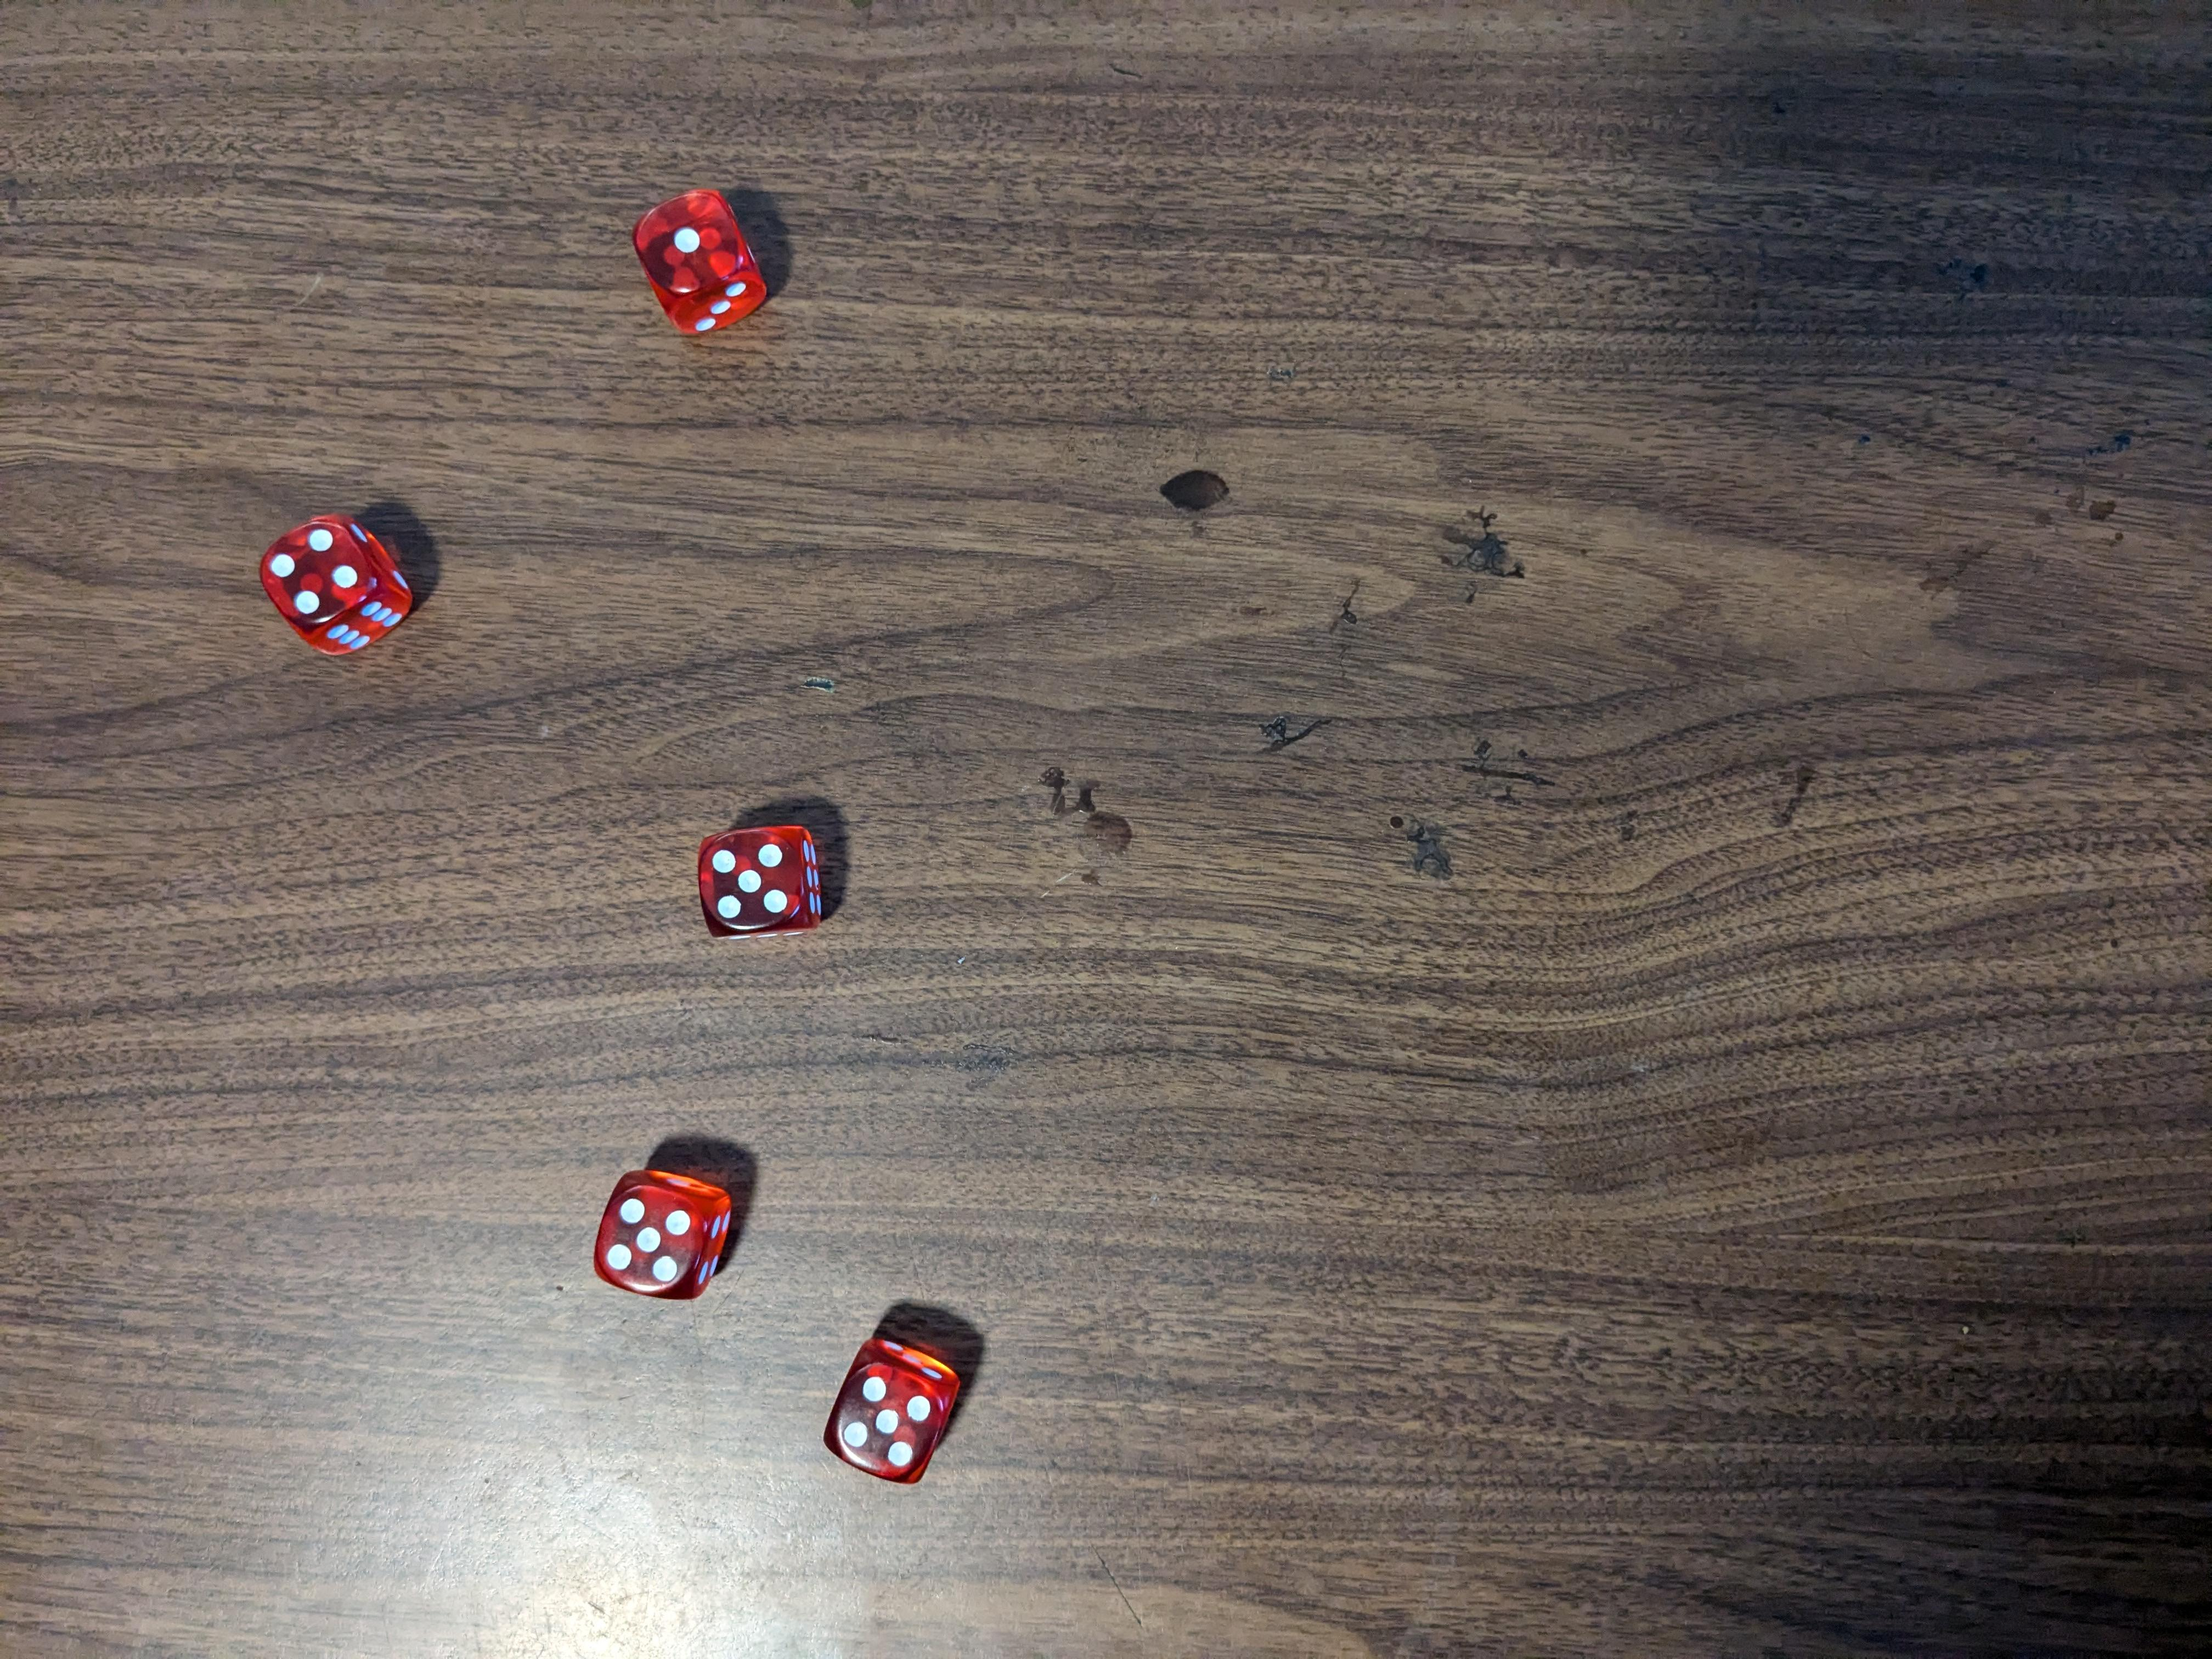five: (587, 1164, 751, 1304), (822, 1338, 972, 1483), (691, 819, 833, 943)
four: (253, 519, 423, 660)
one: (624, 186, 775, 342)
